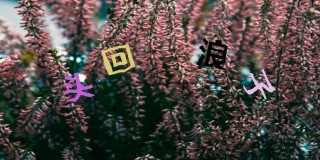回: (100, 44, 136, 76)
头: (62, 71, 95, 103)
子: (243, 69, 275, 100)
浪: (197, 37, 228, 71)
